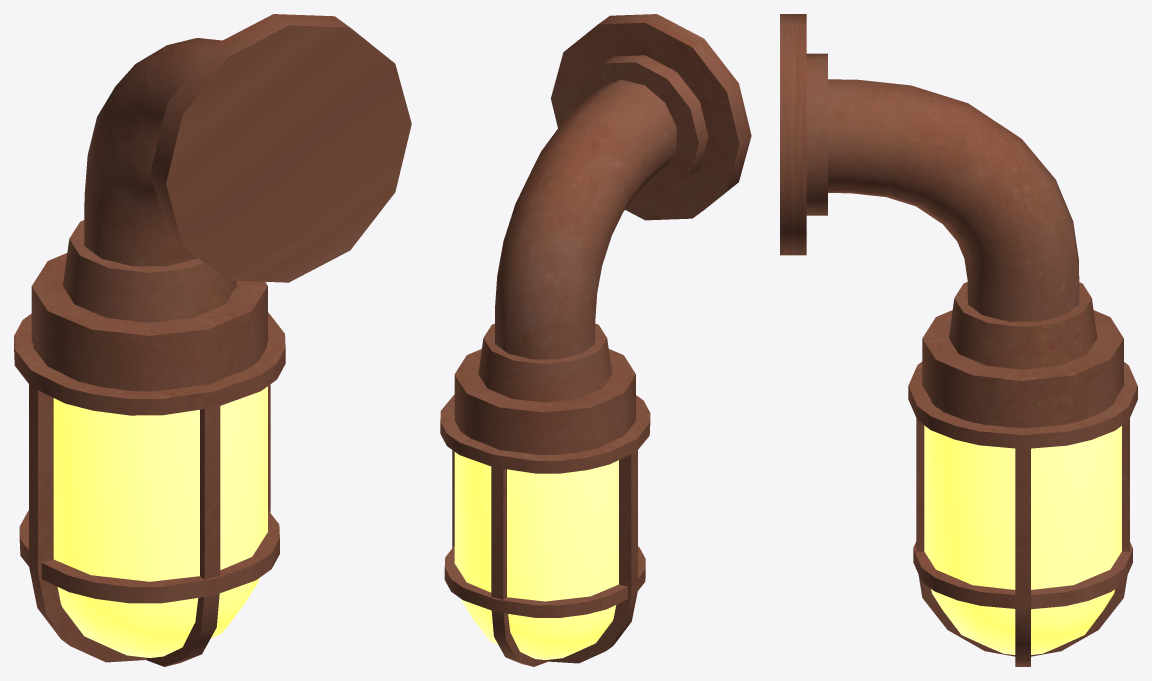
File: Marine_WallMounted_Pipe_FullBulb.fbx
3 views of the same model, side by side, from view 1: azimuth 30°, elevation 25°; view 2: azimuth 150°, elevation 25°; view 3: azimuth 270°, elevation 25° (orthographic). The views are drawn at different scales.
Parts seen in each view (by area): view 1: Marine_WallMounted_Pipe_FullBulb; view 2: Marine_WallMounted_Pipe_FullBulb; view 3: Marine_WallMounted_Pipe_FullBulb.
Part boxes in pixels (x1,y1,x2,y2): Marine_WallMounted_Pipe_FullBulb: [14, 14, 411, 666]; Marine_WallMounted_Pipe_FullBulb: [440, 14, 751, 666]; Marine_WallMounted_Pipe_FullBulb: [780, 14, 1137, 666].
Bounding box in the file's own units: 22.83 × 65.34 × 33.7.
Materials: 2 (1 with a texture image).
